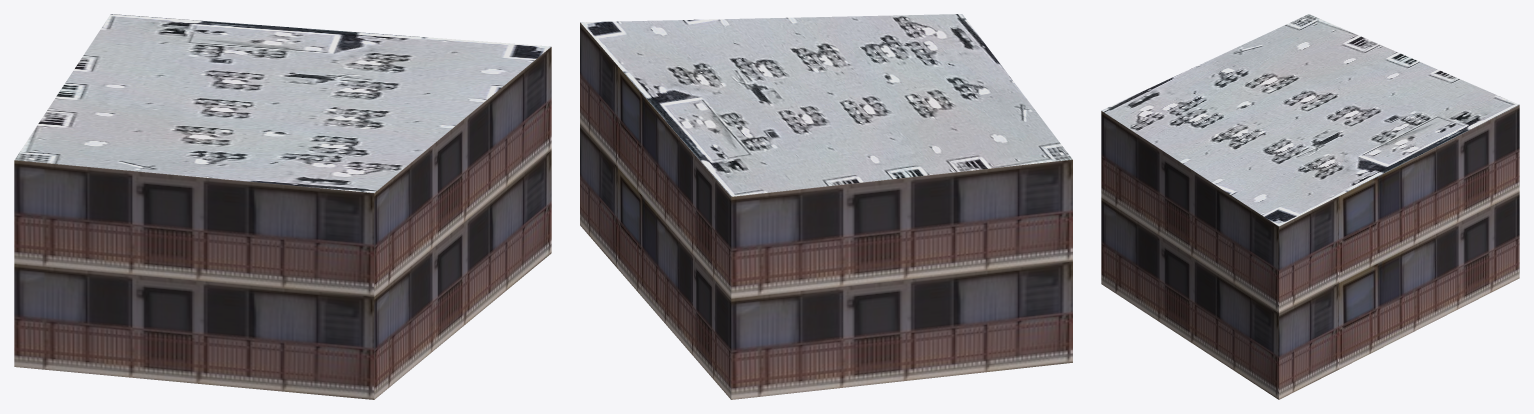
File: ResTex__5226.fbx
The picture shows the model from 3 angles, left to right: view 1: azimuth 30°, elevation 25°; view 2: azimuth 150°, elevation 25°; view 3: azimuth 270°, elevation 25°; orthographic projection. The views are drawn at different scales.
Parts seen in each view (by area): view 1: CityEngineMaterial_6_m, CityEngineMaterial_4_m; view 2: CityEngineMaterial_6_m, CityEngineMaterial_4_m; view 3: CityEngineMaterial_6_m, CityEngineMaterial_4_m.
Boxes of the visible parts, box(x1,y1,x2,y2) form: CityEngineMaterial_6_m: box(14, 47, 551, 399); CityEngineMaterial_4_m: box(14, 14, 550, 192); CityEngineMaterial_6_m: box(580, 22, 1072, 399); CityEngineMaterial_4_m: box(580, 14, 1072, 196); CityEngineMaterial_6_m: box(1101, 105, 1519, 399); CityEngineMaterial_4_m: box(1101, 14, 1519, 226).
Size of the model in its own units: 15.77 by 6 by 13.12.
Materials: 2 (2 with a texture image).
